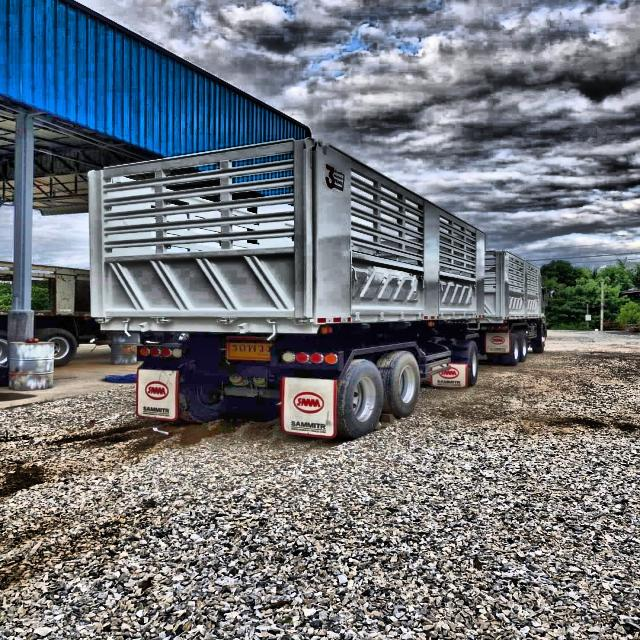trailer: (69, 127, 566, 475)
